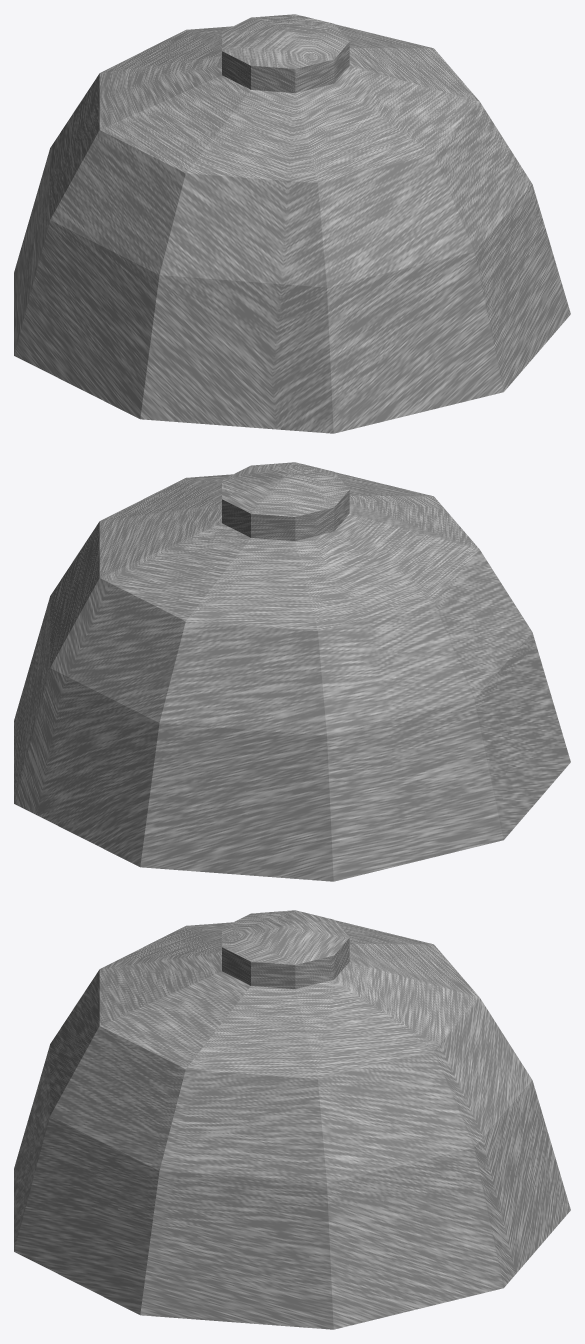
Rendered from HangingLight.glb.
3 views of the same model, one above another, from view 1: azimuth 30°, elevation 25°; view 2: azimuth 150°, elevation 25°; view 3: azimuth 270°, elevation 25° (orthographic).
Parts seen in each view (by area): view 1: Sphere; view 2: Sphere; view 3: Sphere.
Boxes of the visible parts, x1,y1,x2,y2 form: Sphere: [14, 14, 570, 433]; Sphere: [14, 462, 570, 881]; Sphere: [14, 910, 570, 1329].
Size of the model in its own units: 1.97 by 1.09 by 1.94.
Materials: 1 (1 with a texture image).
